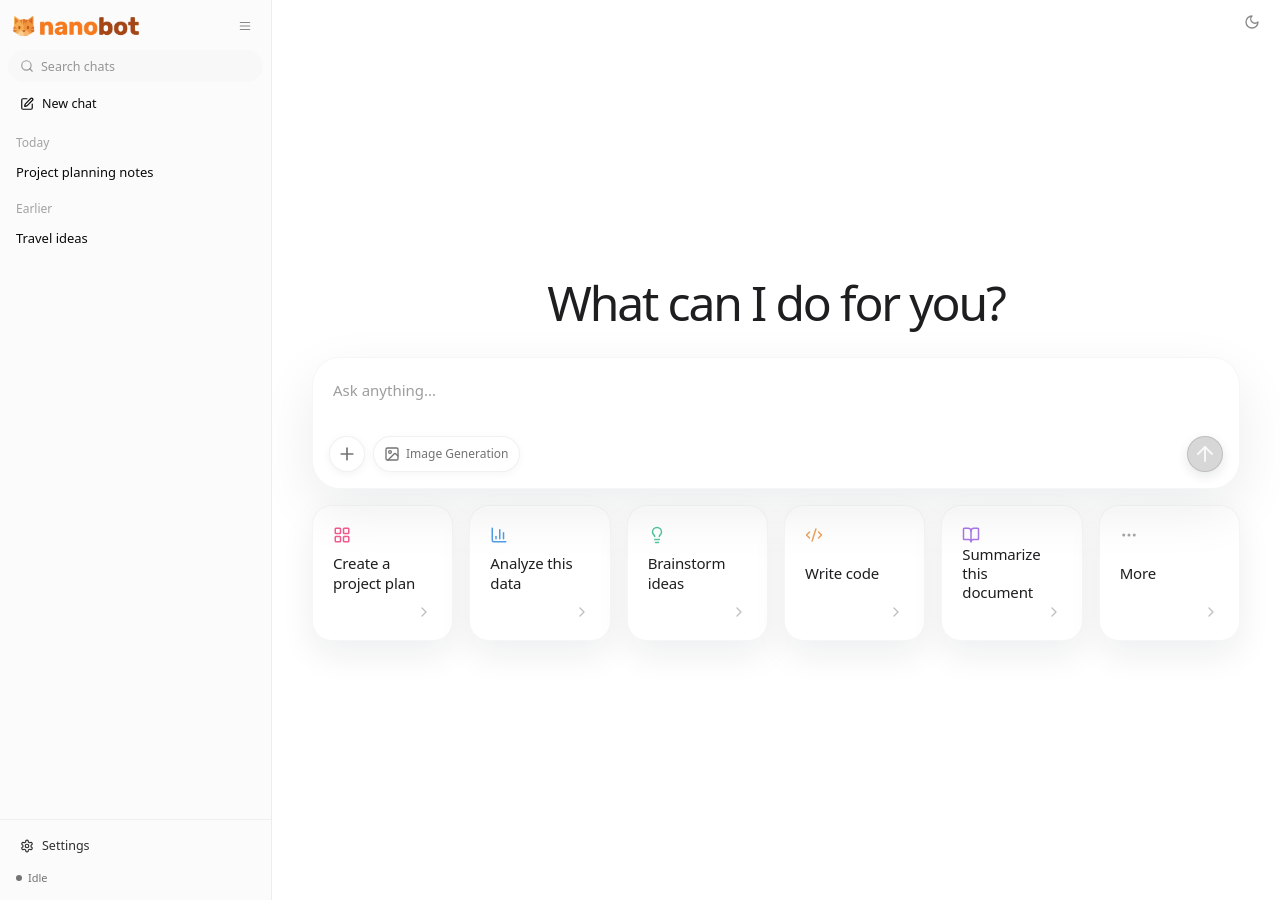
Test: App layout › filters sidebar sessions through the lightweight search row
Expected: the text "Project planning notes" is shown, [16,163,154,181]
Expected: the text "Travel ideas" is shown, [16,229,88,247]
In the field labelled "Search chats": (136, 66) [8,50,263,82], type "travel"
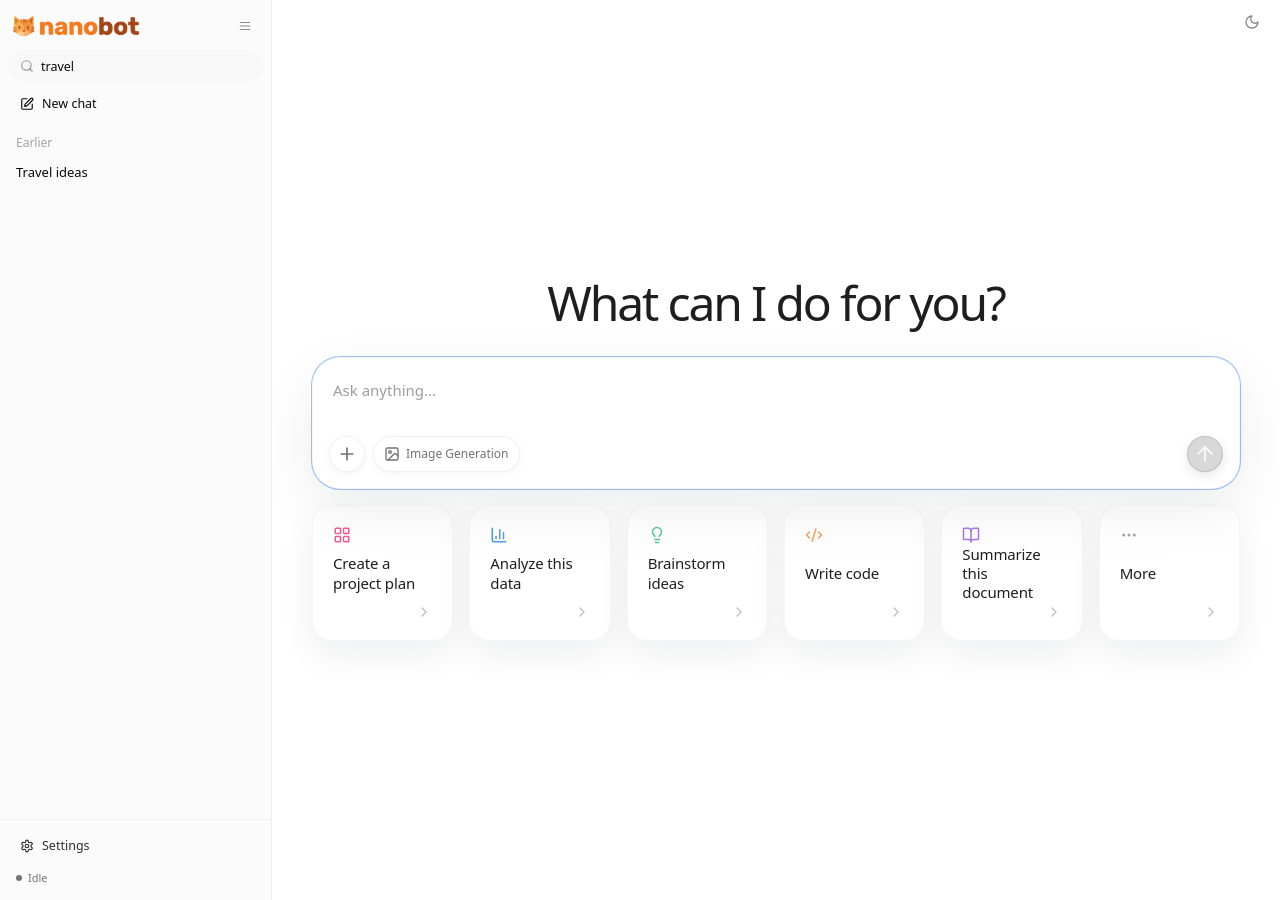
Expected: the text "Travel ideas" is shown, [16,163,88,181]
Expected: the button "Project planning notes" is gone
